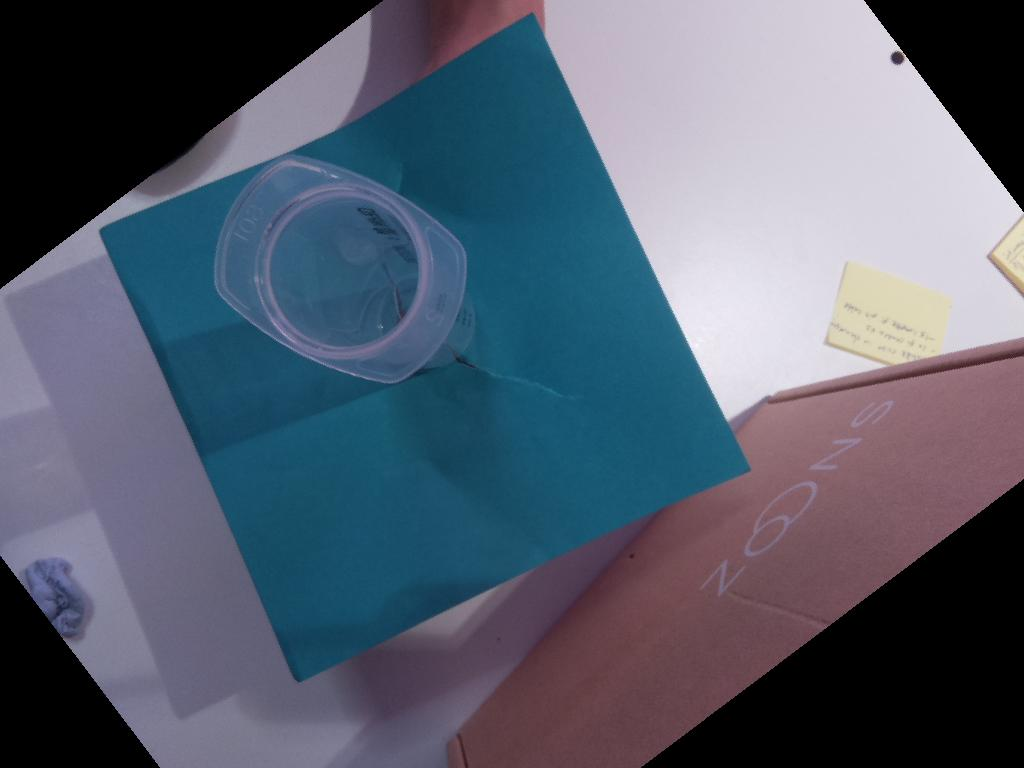clean: (211, 153, 469, 388)
